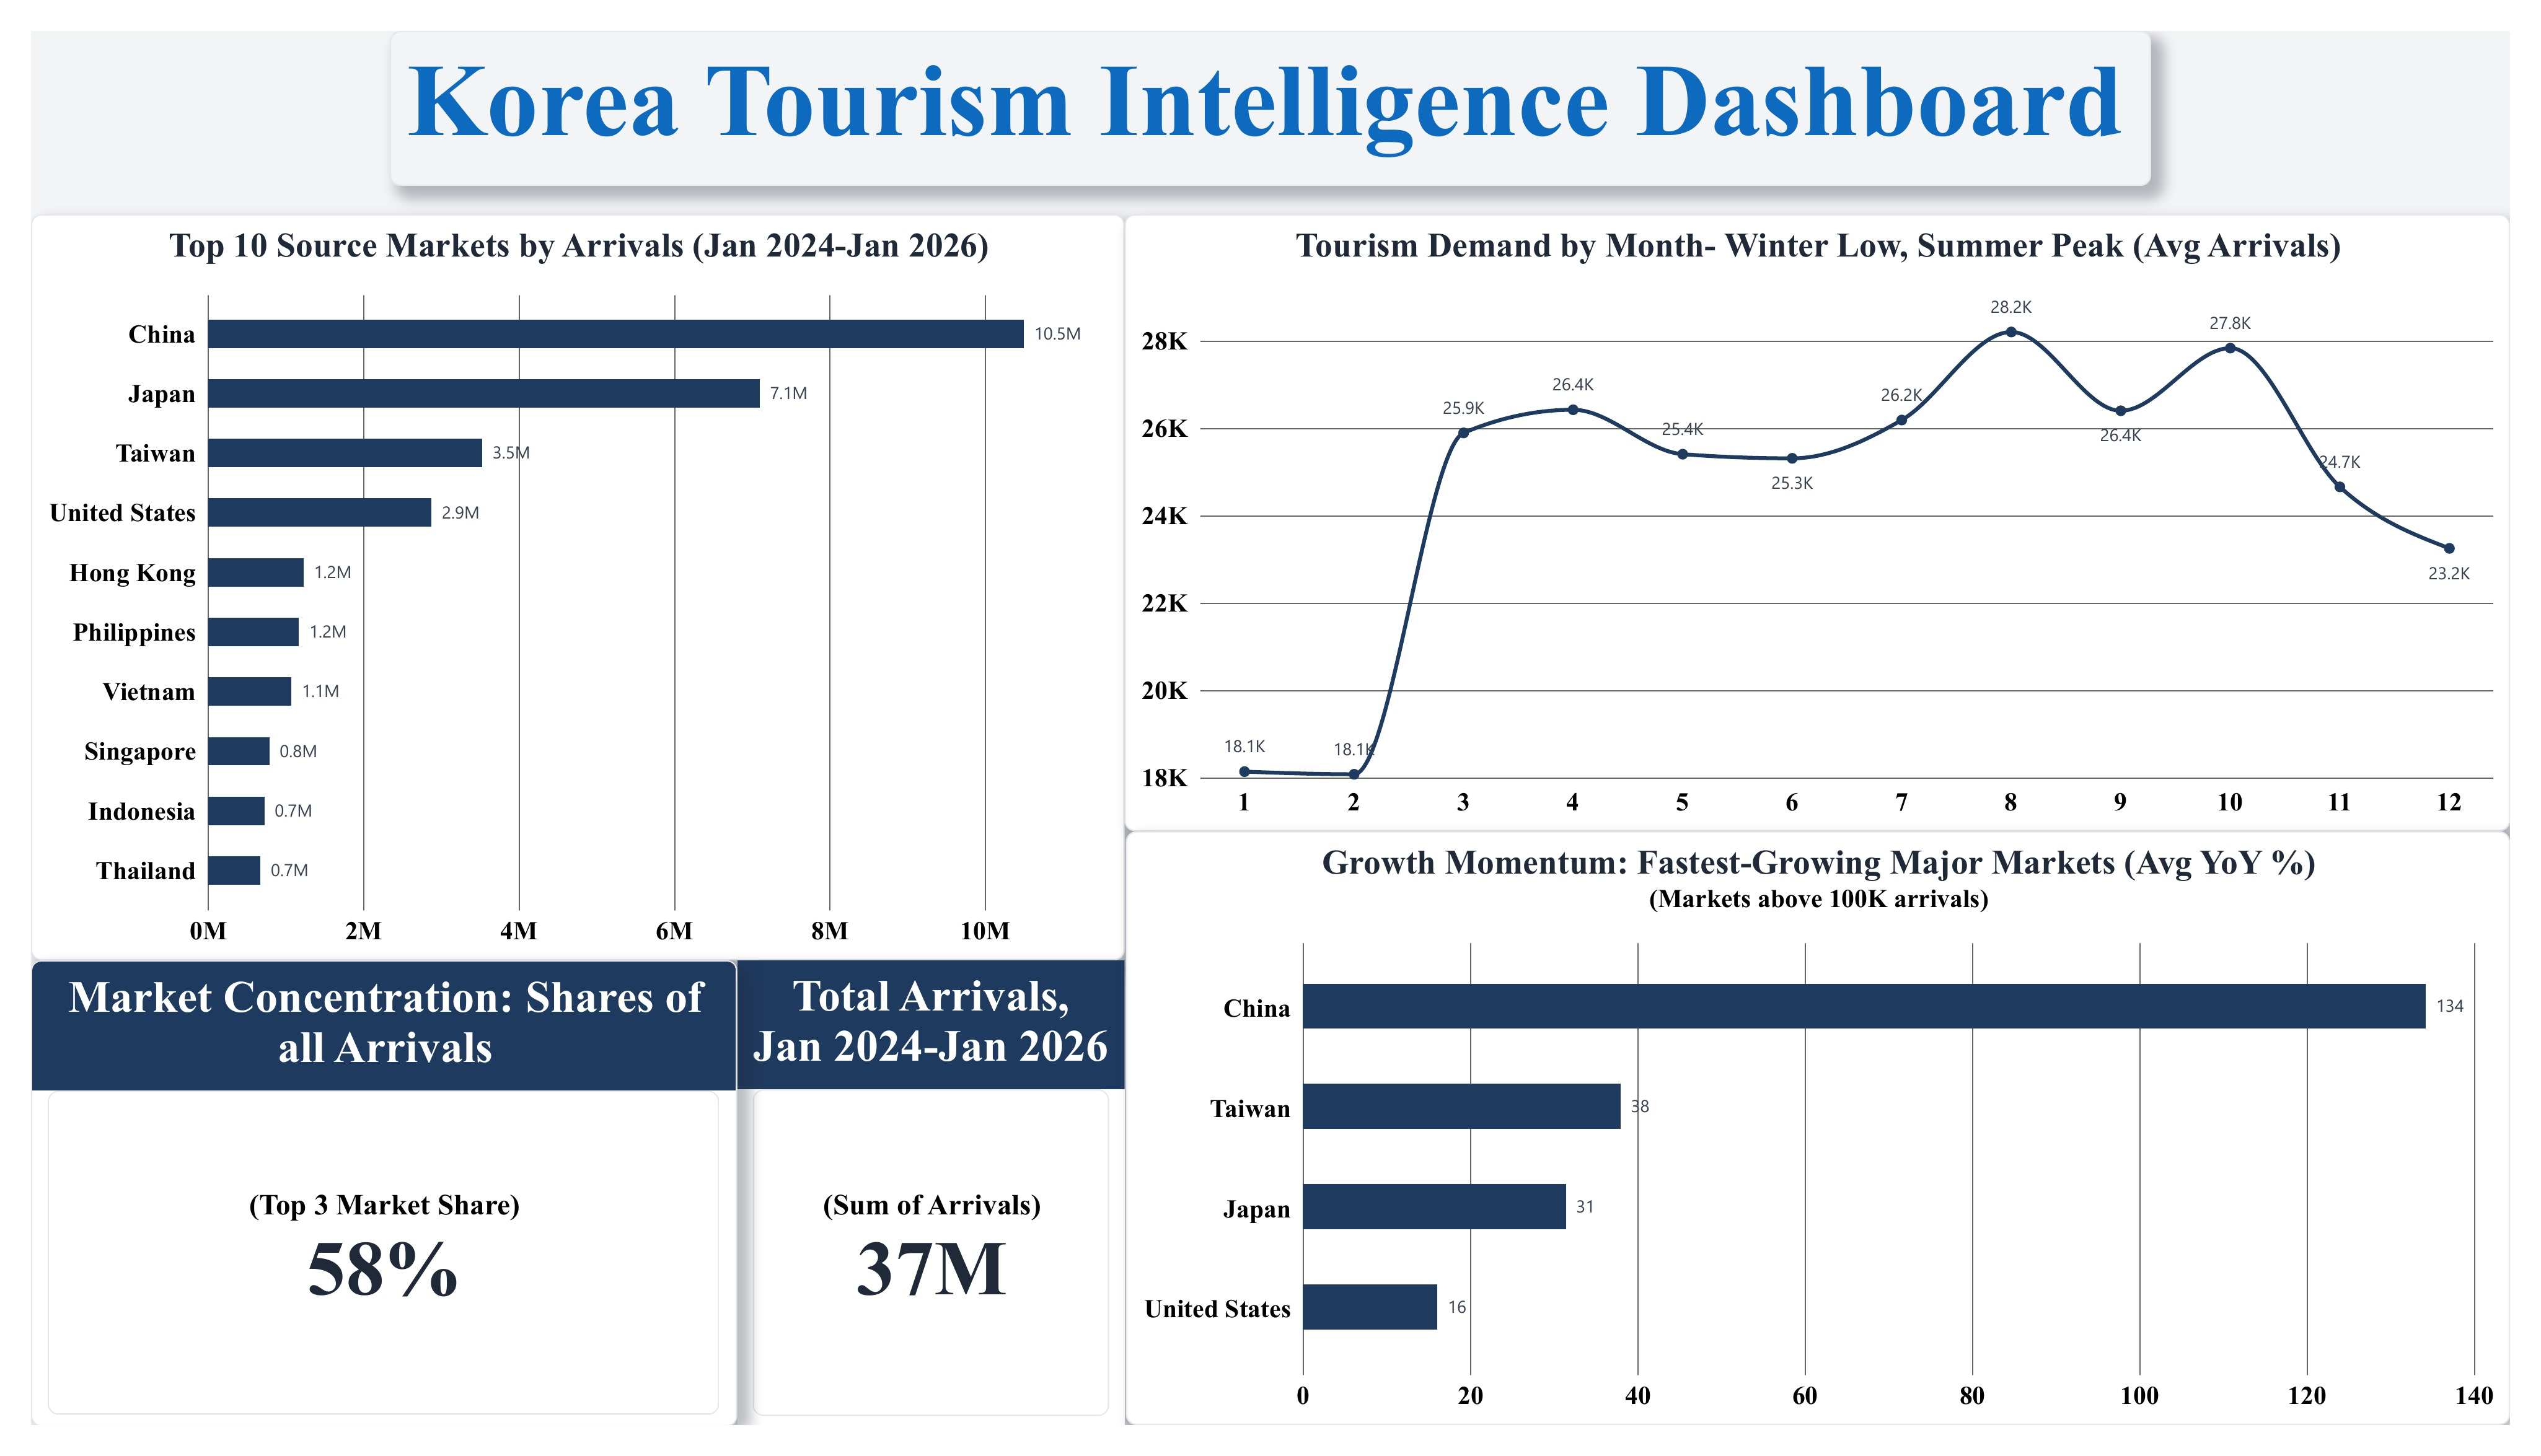

Layout of this report page (visuals, bound fields, positions):
{"tool":"powerbi","page":{"name":"Page 1","canvas":[1920,1080],"ordinal":0},"visuals":[{"type":"clusteredBarChart","title":"Top 10 Source Markets by Arrivals (Jan 2024-Jan 2026)","fields":{"Category":["korea_arrivals_clean - korea_arrivals_clean csv.country"],"Y":["Sum(korea_arrivals_clean - korea_arrivals_clean csv.arrivals)"]},"box":[0,102.5,847.5,617.5],"z":0},{"type":"lineChart","title":"Tourism Demand by Month- Winter Low, Summer Peak (Avg Arrivals)","fields":{"Category":["korea_arrivals_clean - korea_arrivals_clean csv.month"],"Y":["Avg(korea_arrivals_clean - korea_arrivals_clean csv.arrivals)"]},"box":[847.5,102.5,1072.5,517.5],"z":1000},{"type":"textbox","box":[277.8,0,1366.3,102],"z":2000},{"type":"cardVisual","title":"Total Arrivals, Jan 2024-Jan 2026","fields":{"Data":["Sum(korea_arrivals_clean - korea_arrivals_clean csv.arrivals)"]},"box":[425,720,422.5,360],"z":3000},{"type":"cardVisual","title":"Market Concentration: Shares of all Arrivals","fields":{"Data":["arrivals_data.Top 3 Market Share"]},"box":[0,720,425,360],"z":4000},{"type":"clusteredBarChart","title":"Growth Momentum: Fastest-Growing Major Markets (Avg YoY %)","fields":{"Category":["arrivals_data.country"],"Y":["Avg(arrivals_data.yoy_growth_pct)"]},"box":[847.5,620,1072.5,460],"z":5000}]}

Visuals, with their boxes on the page's 1920x1080 design canvas (x1, y1, x2, y2). These are canvas units, not pixel positions in the 2541x1456 screenshot, which may show the page scaled, cropped or inside an application window:
"Top 10 Source Markets by Arrivals (Jan 2024-Jan 2026)" clusteredBarChart: {"left": 0, "top": 102, "right": 848, "bottom": 720}
"Tourism Demand by Month- Winter Low, Summer Peak (Avg Arrivals)" lineChart: {"left": 848, "top": 102, "right": 1920, "bottom": 620}
textbox: {"left": 278, "top": 0, "right": 1644, "bottom": 102}
"Total Arrivals, Jan 2024-Jan 2026" cardVisual: {"left": 425, "top": 720, "right": 848, "bottom": 1080}
"Market Concentration: Shares of all Arrivals" cardVisual: {"left": 0, "top": 720, "right": 425, "bottom": 1080}
"Growth Momentum: Fastest-Growing Major Markets (Avg YoY %)" clusteredBarChart: {"left": 848, "top": 620, "right": 1920, "bottom": 1080}
